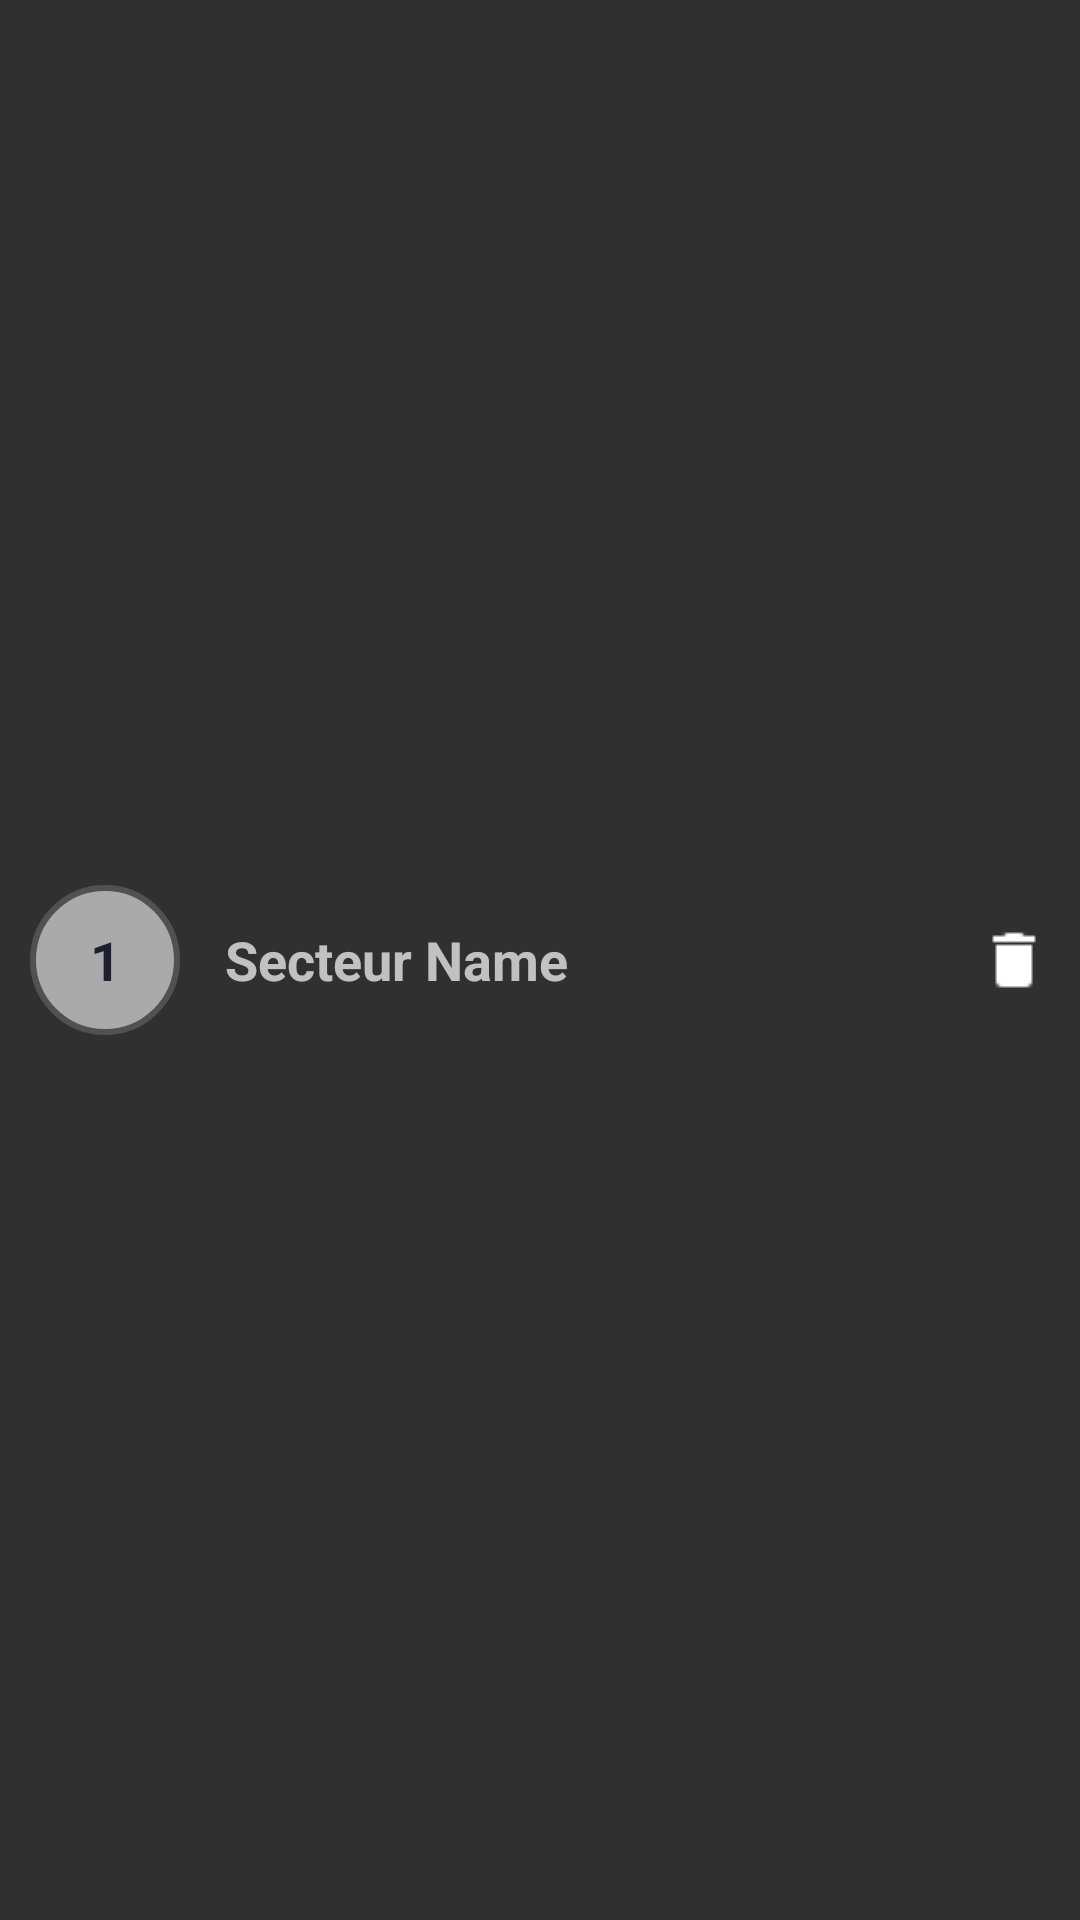

Screen size 1080x1920. Icon name, then its center in pixels as (x=x, y=y):
delete: (x=1014, y=960)
